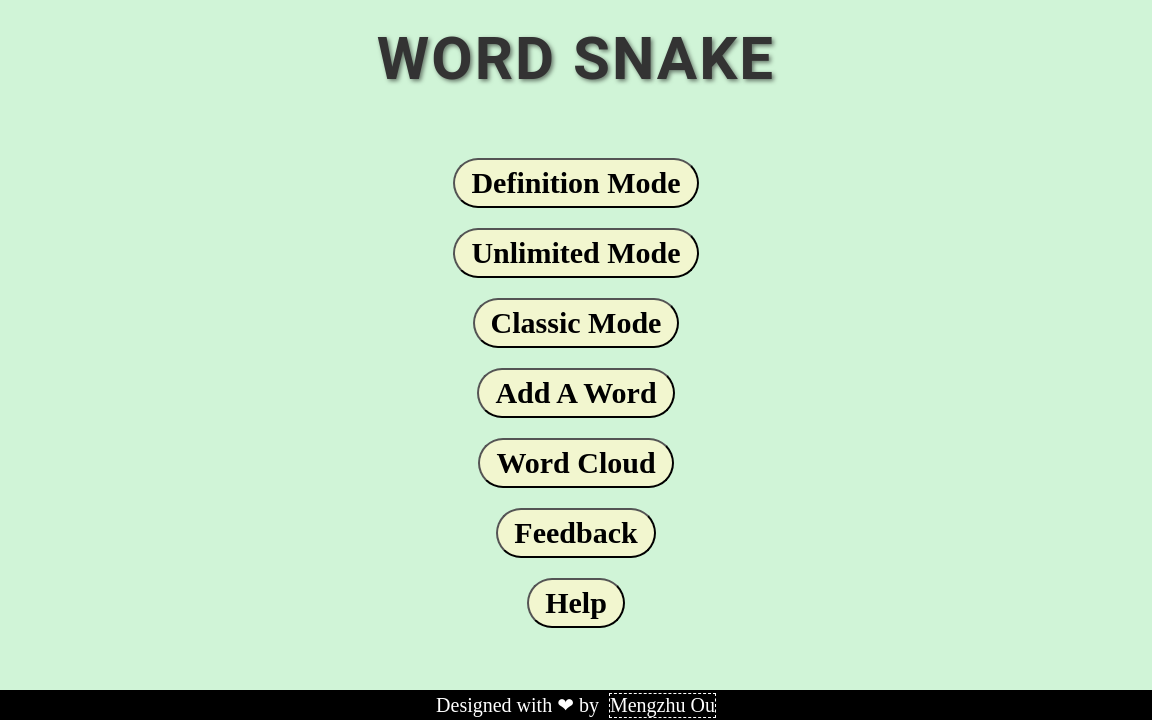
Menu Component basic behavior › opens and closes Word Addition modal
The image size is (1152, 720).
Click the button "Add A Word".
click(576, 393)  # box [477,368,675,418]
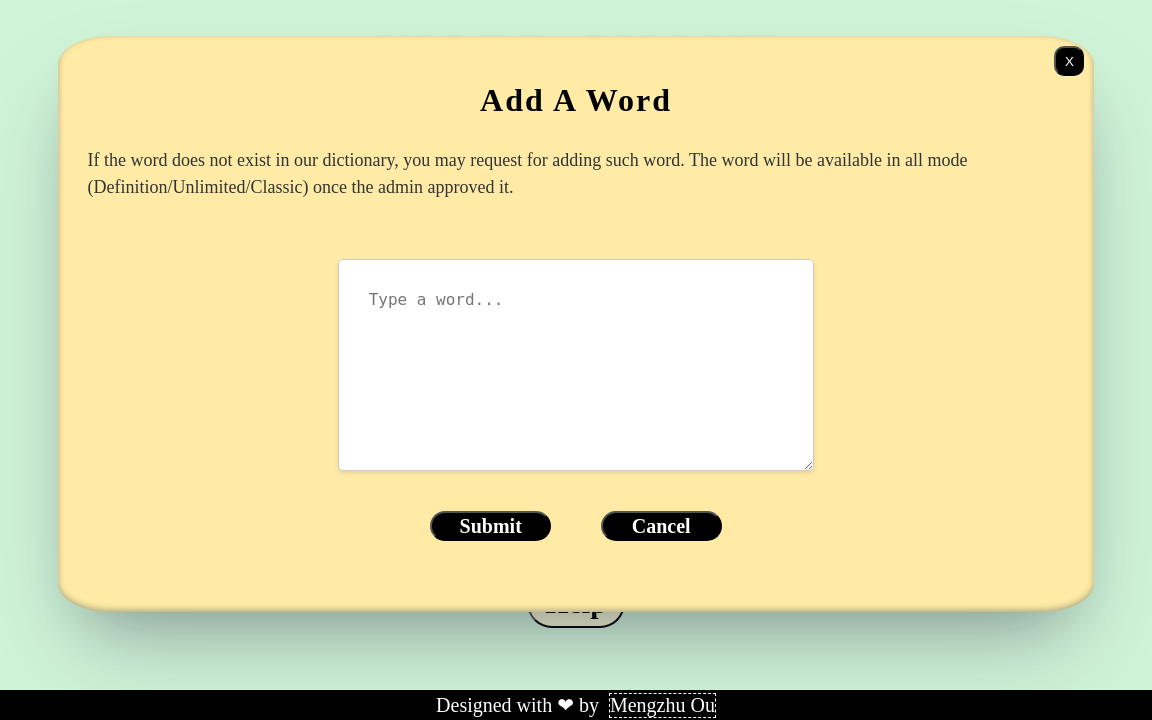
Check: the text "If the word does not exist in our dictionary" is shown, box [88,150,967,197]
Check: the text "Submit" is shown, box [430,511,551,541]
Check: the text "Cancel" is shown
Click the button "Cancel".
click(661, 526)  # box [601,511,722,541]
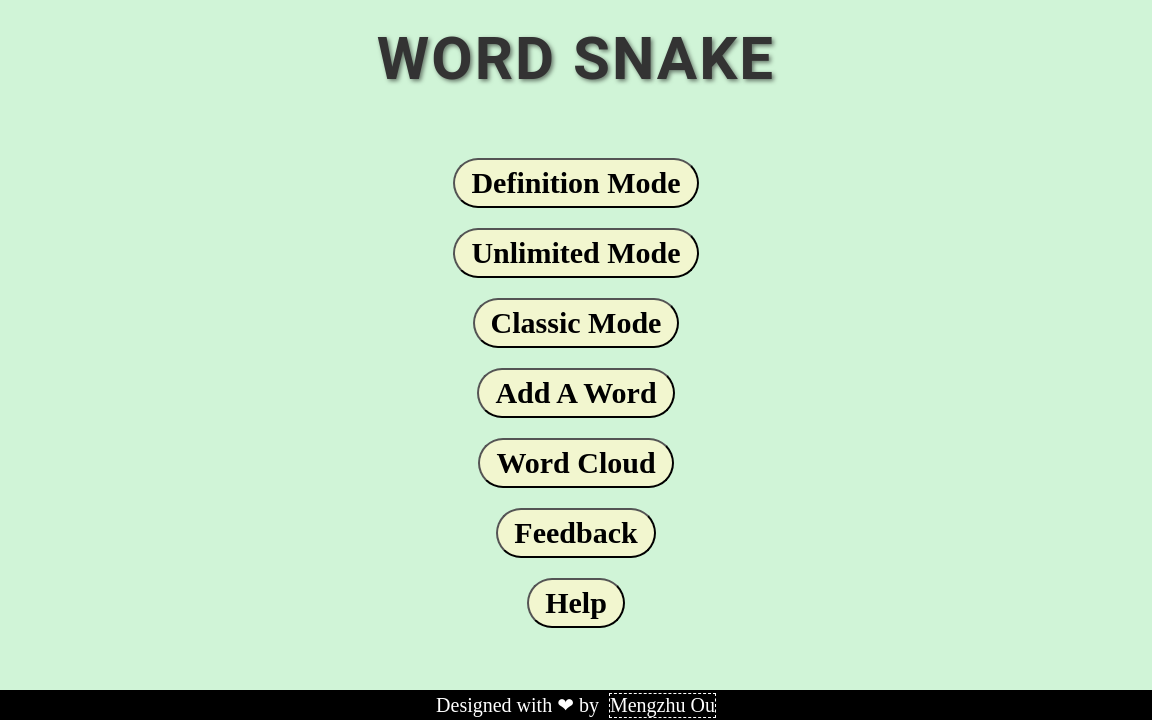
Check: the text "If the word does not exist in our dictionary" is gone
Check: the text "Submit" is gone
Check: the text "Cancel" is gone
